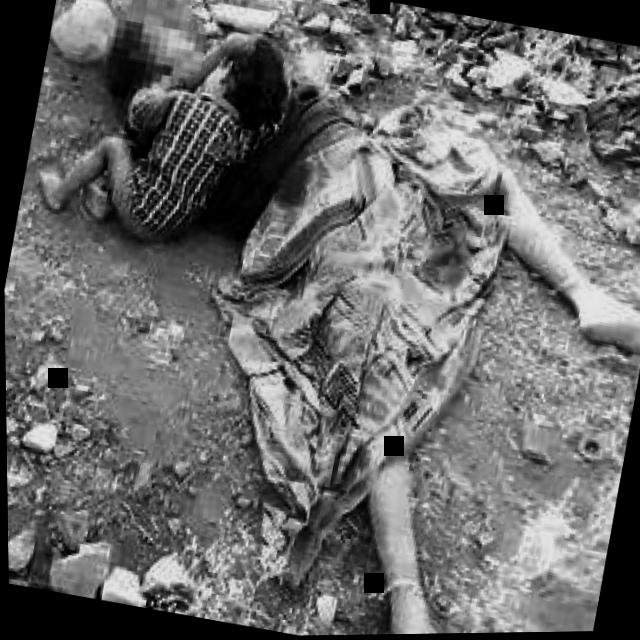Fall-Detected: (14, 0, 285, 273)
